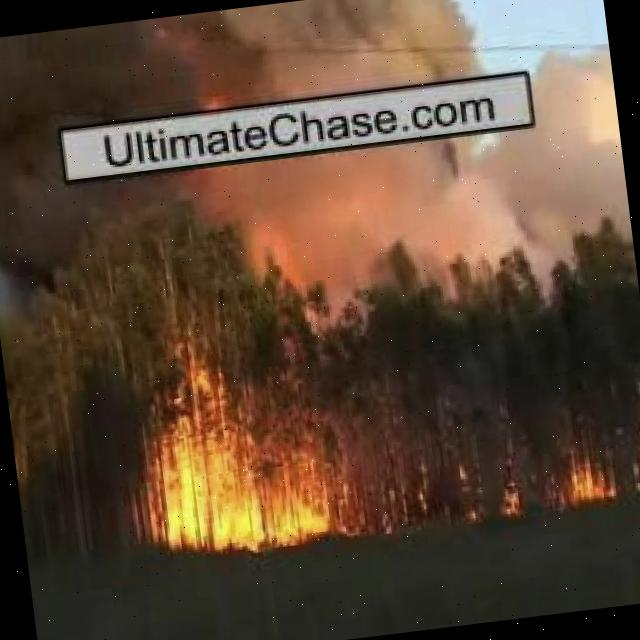fire: (141, 388, 341, 562), (378, 470, 442, 534), (548, 455, 618, 510), (498, 487, 527, 518)
